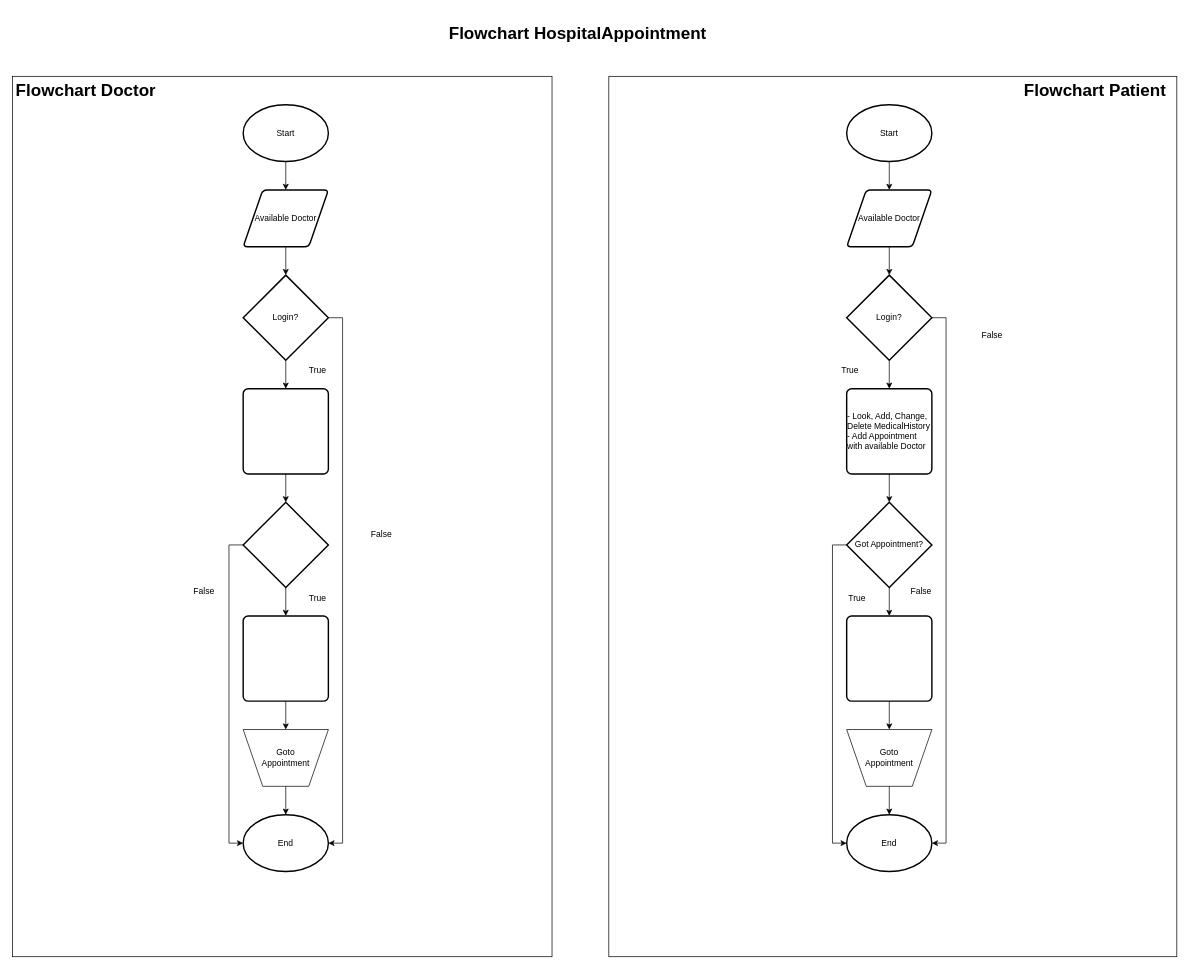
Image size: 1189x969. Some labels were removed from this diagram. Each missing label, with the centre of its shape:
"Any Appointment?" goes at (285,544).
"Diagnose Patient, Look MedicalHostiry Patient" goes at (285,658).
"Look, Add, Change, Delete Complaints" goes at (889,658).
"Look, Add, Change, Delete Schedule" goes at (285,431).
